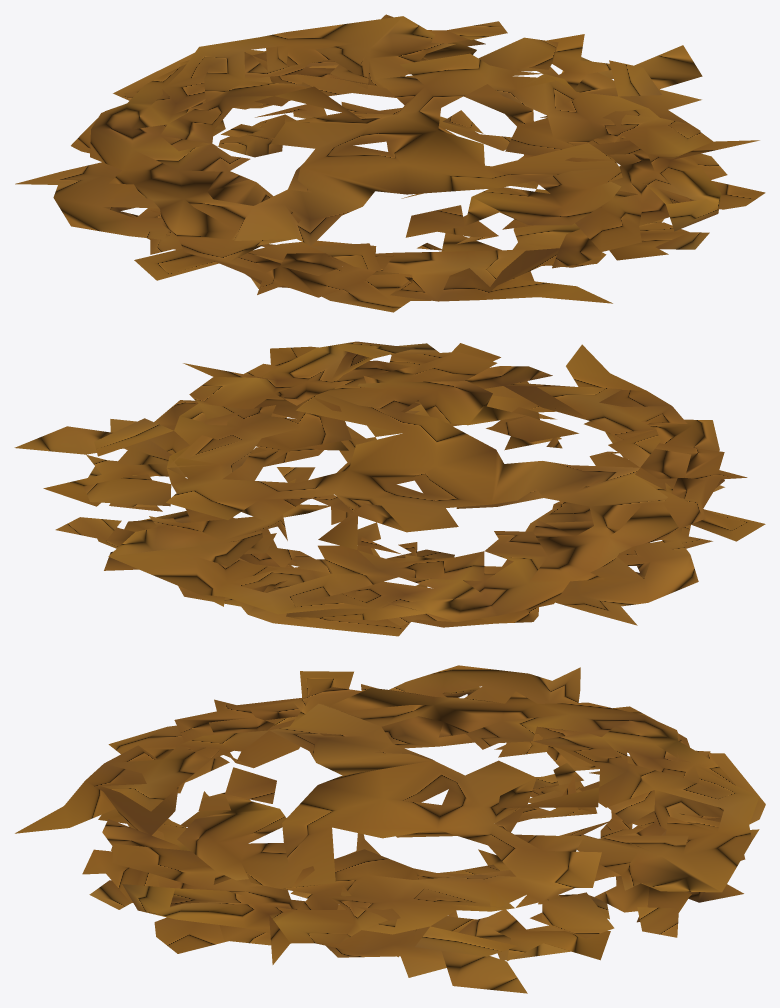
Rendered from carpet.glb.
3 views of the same model, one above another, from view 1: azimuth 30°, elevation 25°; view 2: azimuth 150°, elevation 25°; view 3: azimuth 270°, elevation 25° (orthographic). The views are drawn at different scales.
Visible parts, largest first — view 1: object; view 2: object; view 3: object.
Part boxes in pixels (x1,y1,x2,y2): object: (15, 14, 765, 312); object: (14, 341, 765, 636); object: (15, 665, 765, 993).
Size of the model in its own units: 1.17 by 0.0426 by 1.13.
